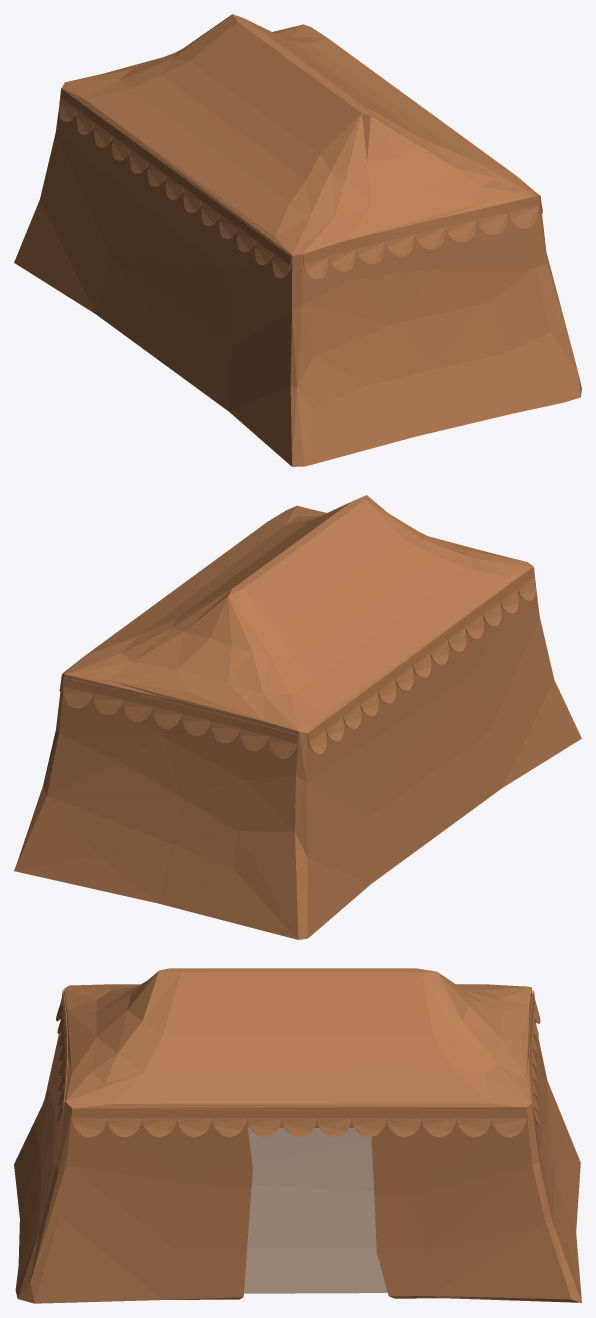
The model's file is tent_b.glb.
3 renders of one model, top to bottom at view 1: azimuth 30°, elevation 25°; view 2: azimuth 150°, elevation 25°; view 3: azimuth 270°, elevation 25°, orthographic.
Parts seen in each view (by area): view 1: tent_b; view 2: tent_b; view 3: tent_b.
Boxes of the visible parts, x1,y1,x2,y2 form: tent_b: (14,14,581,466); tent_b: (14,495,581,939); tent_b: (14,968,581,1303).
Size of the model in its own units: 4.56 by 3.85 by 7.58.
